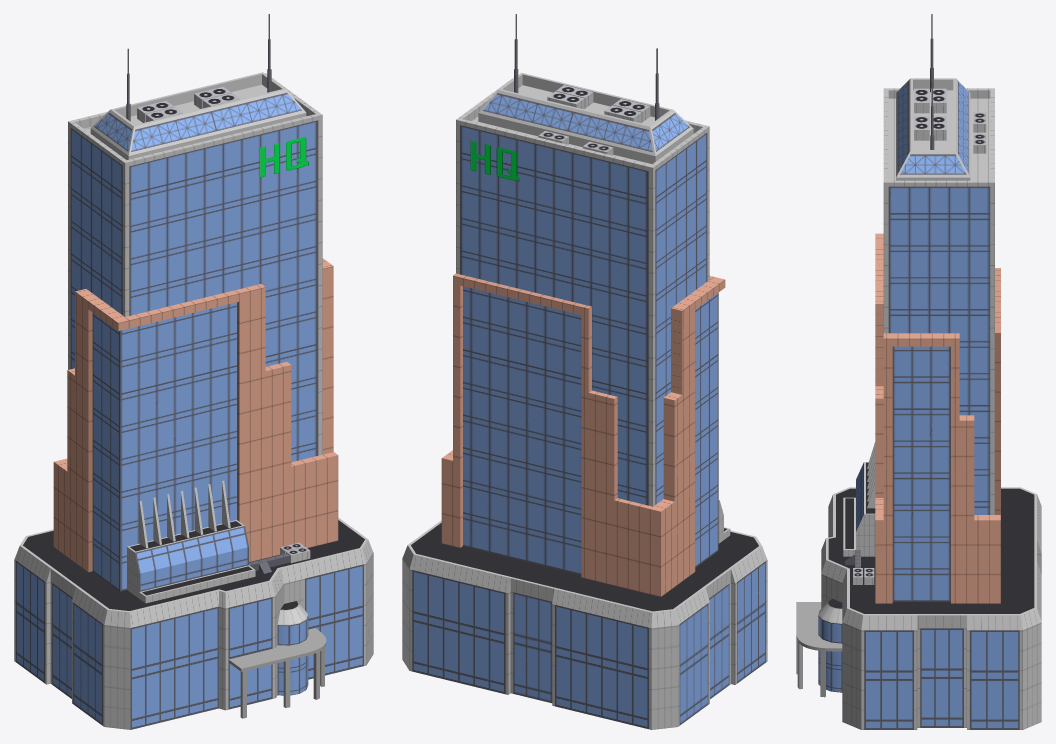
File: BVR Luxury Tower_01.FBX
3 views of the same model, side by side, from view 1: azimuth 30°, elevation 25°; view 2: azimuth 150°, elevation 25°; view 3: azimuth 270°, elevation 25° (orthographic). The views are drawn at different scales.
Parts seen in each view (by area): view 1: BVR Luxury Tower_01; view 2: BVR Luxury Tower_01; view 3: BVR Luxury Tower_01.
Boxes of the visible parts, x1,y1,x2,y2 form: BVR Luxury Tower_01: (14, 14, 373, 729); BVR Luxury Tower_01: (402, 14, 767, 729); BVR Luxury Tower_01: (796, 14, 1041, 729).
Bounding box in the file's own units: 10.28 × 22.39 × 8.09.
